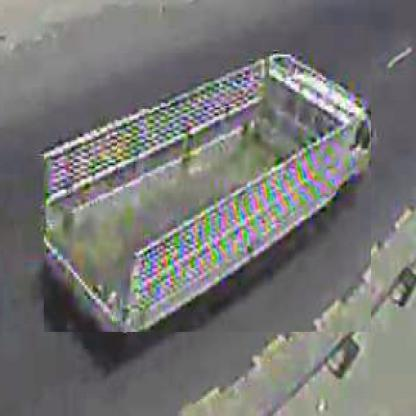truck: (43, 54, 372, 334)
